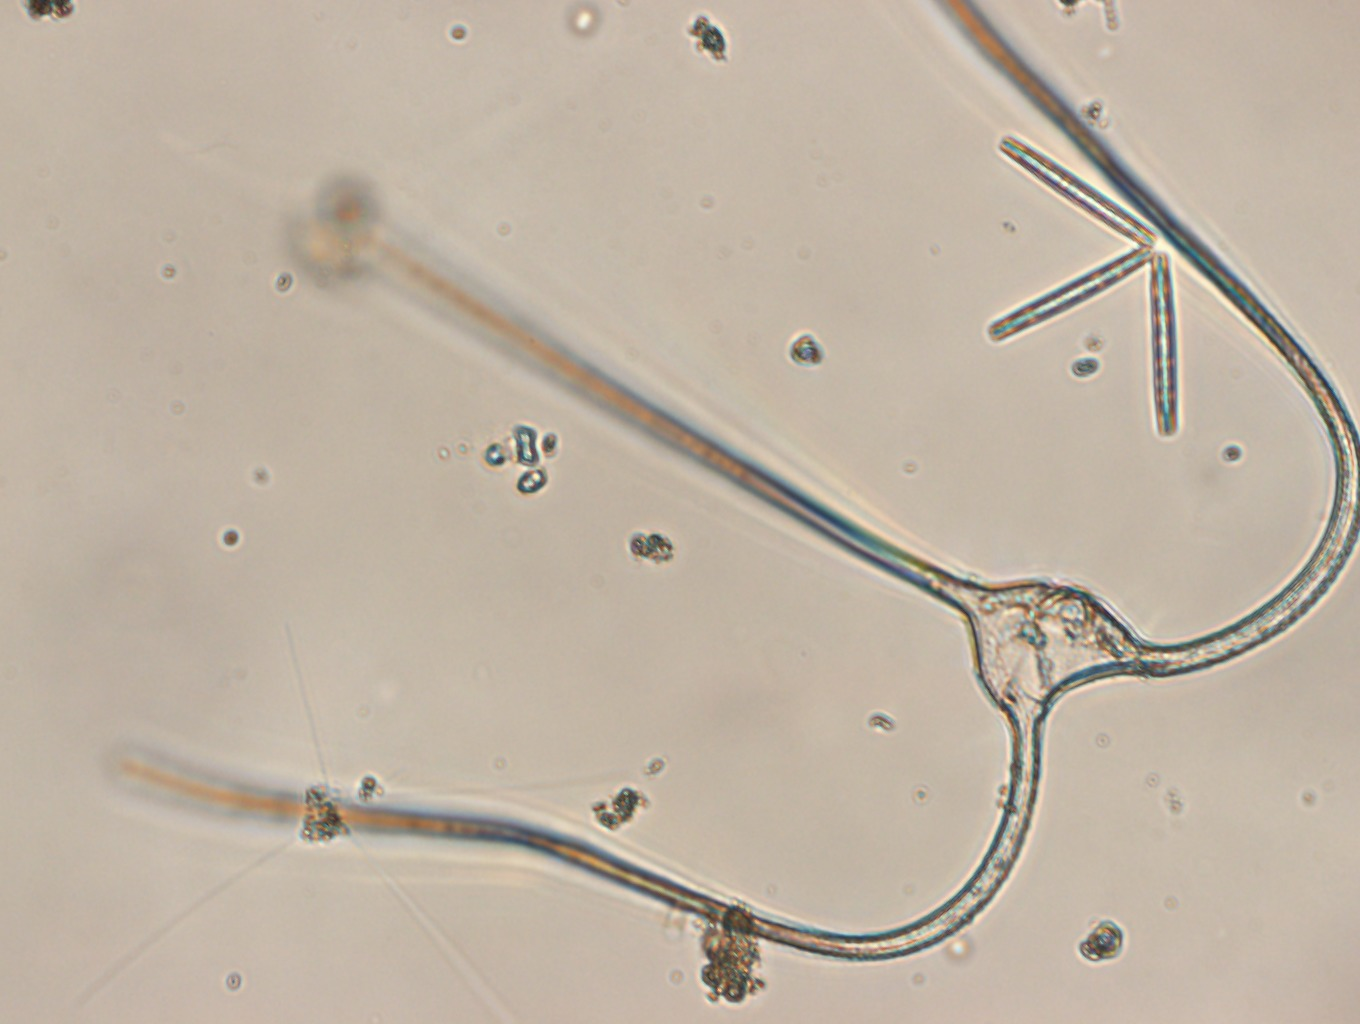ceratium trichoceros: (118, 1, 1360, 962)
thalassionema nitzschioides: (986, 131, 1182, 439)
